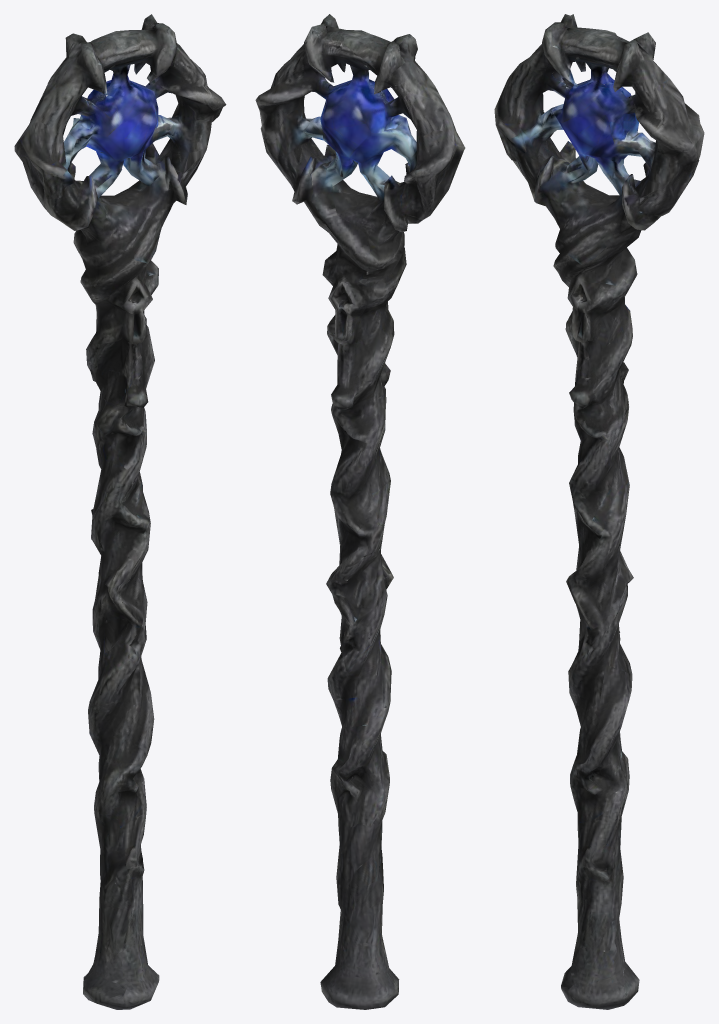
Rendered from 1035_wand.glb.
3 renders of one model, left to right at view 1: azimuth 30°, elevation 25°; view 2: azimuth 150°, elevation 25°; view 3: azimuth 330°, elevation 25°, orthographic.
Visible parts, largest first — view 1: Model; view 2: Model; view 3: Model.
Part boxes in pixels (box(x1,y1,x2,y2)): Model: box(14, 14, 226, 1009); Model: box(255, 14, 465, 1009); Model: box(494, 14, 704, 1009).
Size of the model in its own units: 0.2128 by 1 by 0.084.
Materials: 1 (1 with a texture image).
